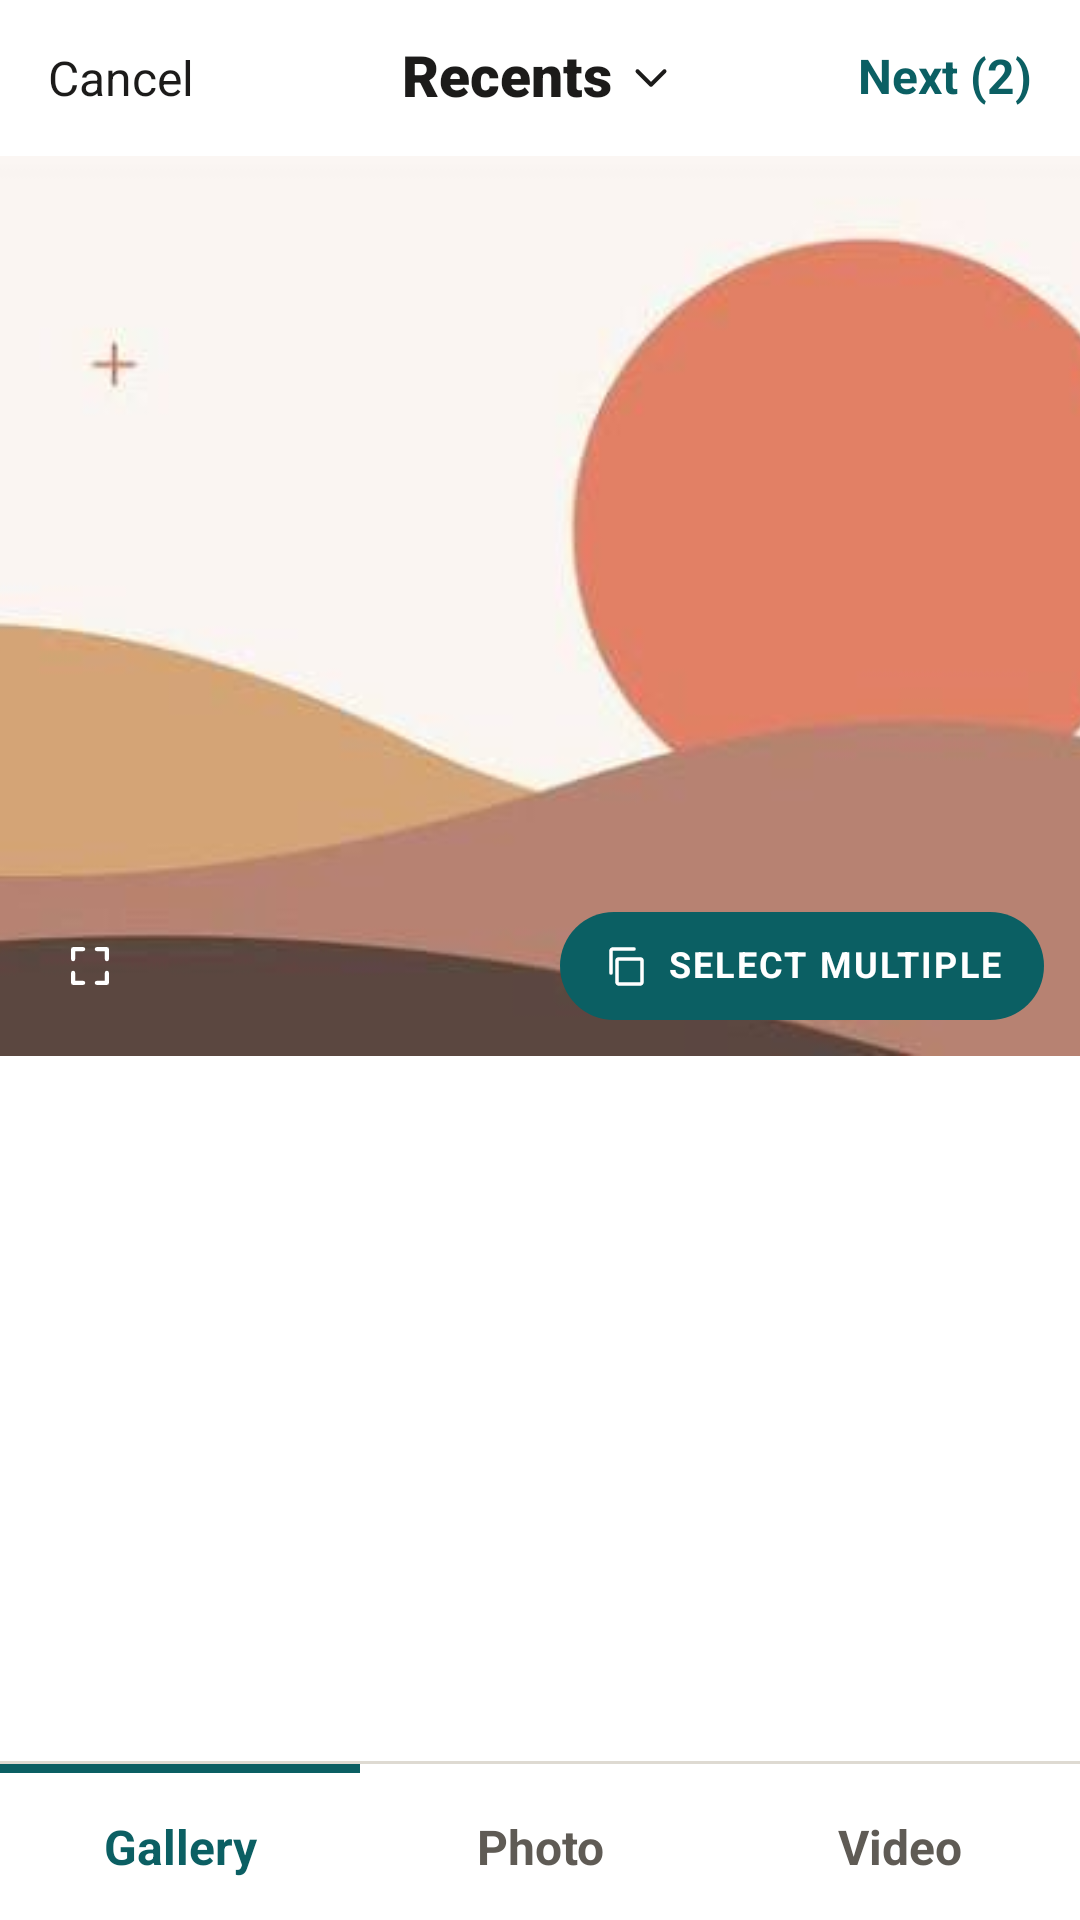

Icon click points for this 1080px×1920px phone screenshot, format (x,y):
Choose album: (651,78)
